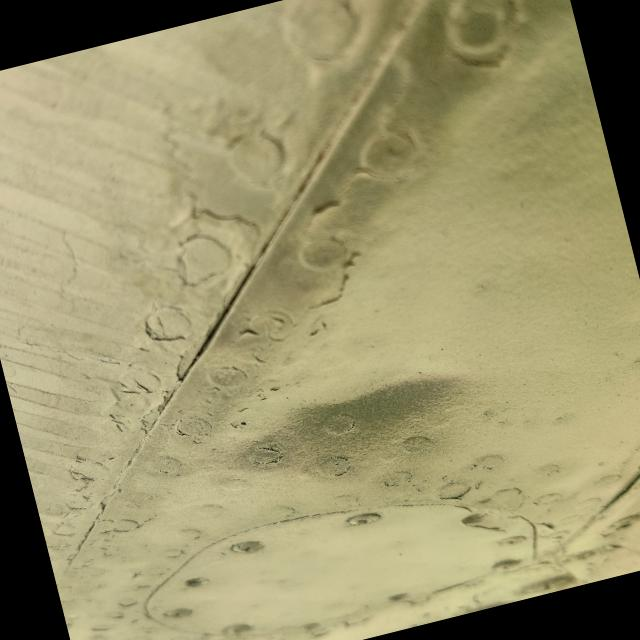dent: (234, 363, 505, 532)
